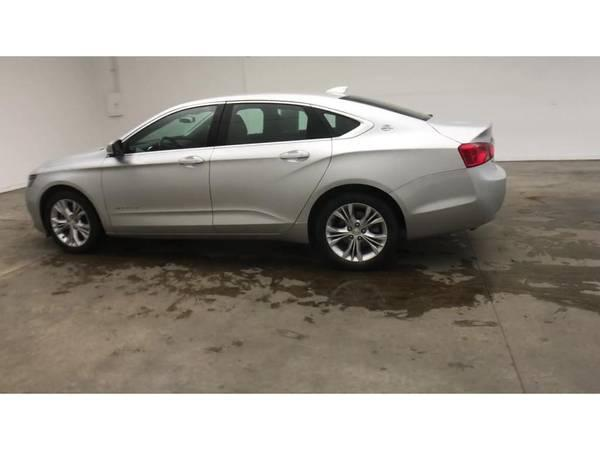Front_Fender: (28, 150, 114, 235)
Front_Left_Door: (101, 149, 215, 239)
Front_Left_Window: (113, 105, 225, 158)
Left_Taillight: (458, 140, 493, 168)
Rear_Bumper: (391, 159, 511, 238)
Rear_Fender: (320, 111, 464, 195)
Rear_Left_Door: (210, 137, 333, 240)
Rear_Left_Window: (214, 101, 334, 145)
Roof: (107, 92, 434, 150)
Wheel: (312, 191, 398, 270), (47, 193, 101, 255)
